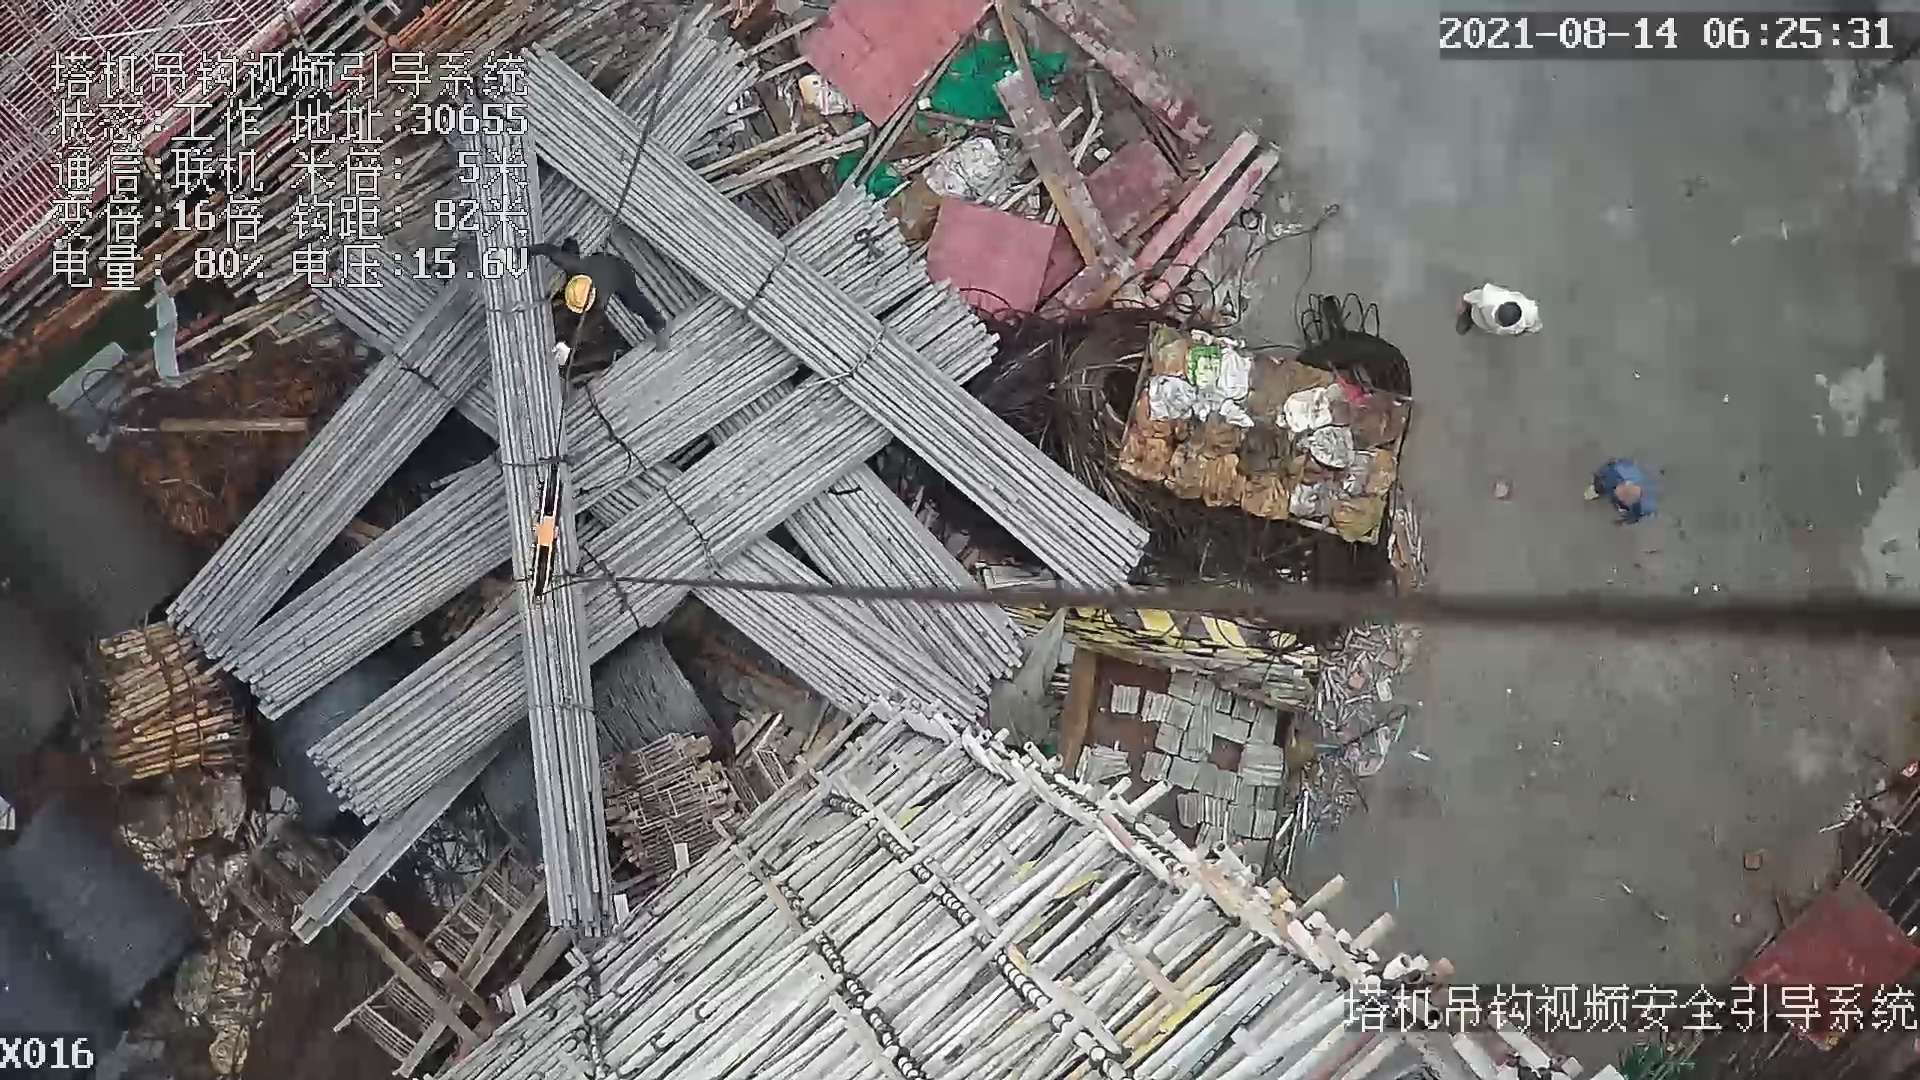helmet: (564, 274, 595, 315)
hook: (520, 463, 574, 617)
person: (522, 244, 678, 371), (1444, 286, 1551, 344), (1578, 454, 1667, 519)
